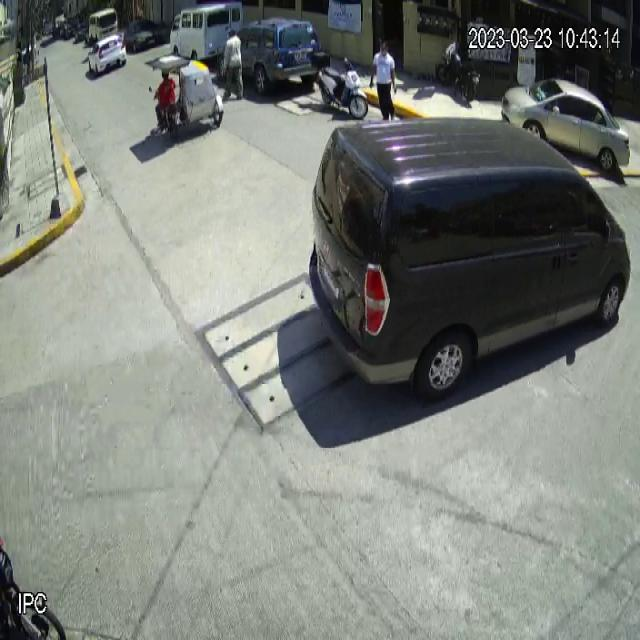Car: (501, 77, 632, 175), (216, 15, 322, 96)
Motorcycle: (308, 51, 369, 120)
Tricycle: (144, 54, 224, 140)
Van: (308, 115, 632, 402), (169, 0, 245, 68)
